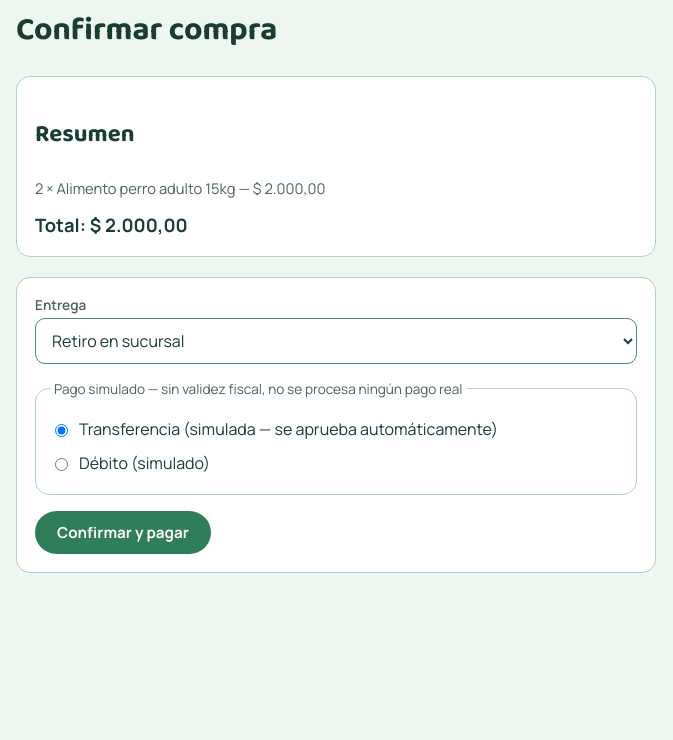
Test: Checkout › si un producto deja de estar disponible al confirmar (409), muestra el motivo y no navega
Expected: the text "Total: $ 2.000,00" is shown, x1=35 y1=212 x2=188 y2=238
Click the button "Confirmar y pagar" at point(123, 532), box x1=35 y1=511 x2=211 y2=554
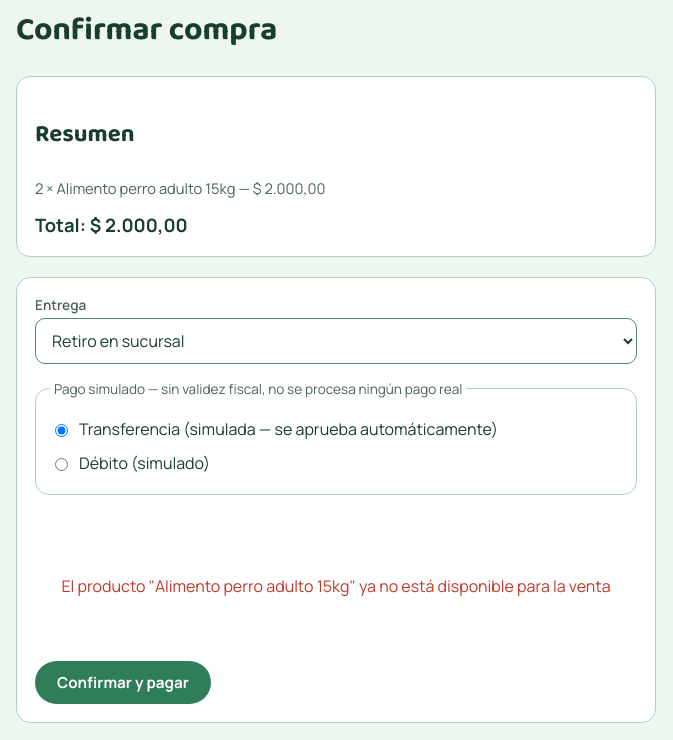
Result: the text "ya no está disponible para la venta" is shown at x1=62 y1=575 x2=611 y2=597
